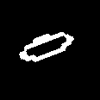chain: (19, 32, 73, 61)
